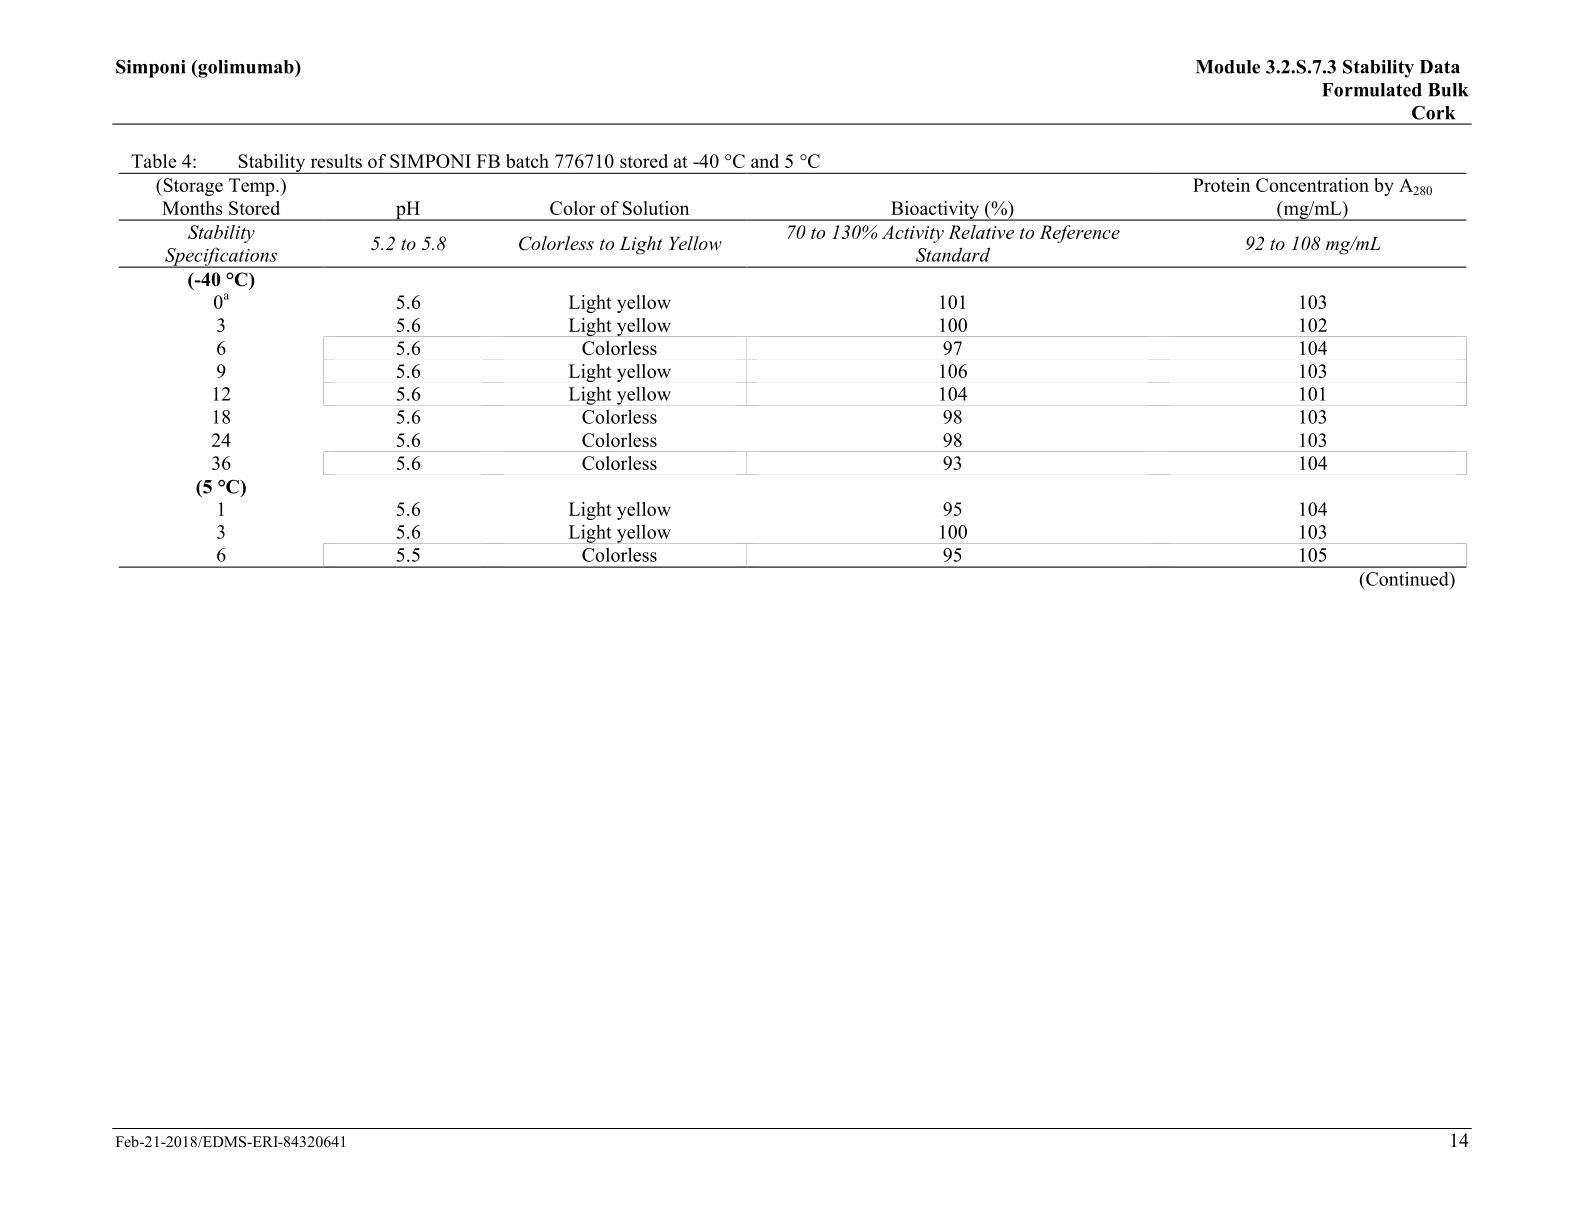partial_lined: (117, 171, 1468, 570)
